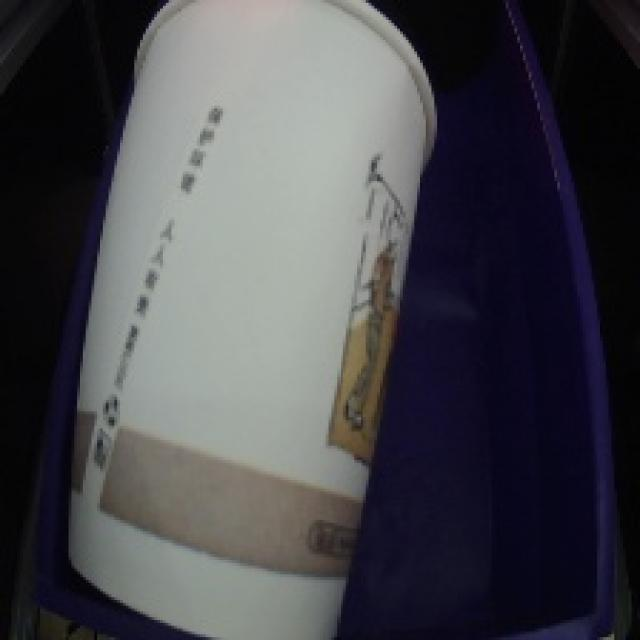cups: (52, 0, 447, 640)
